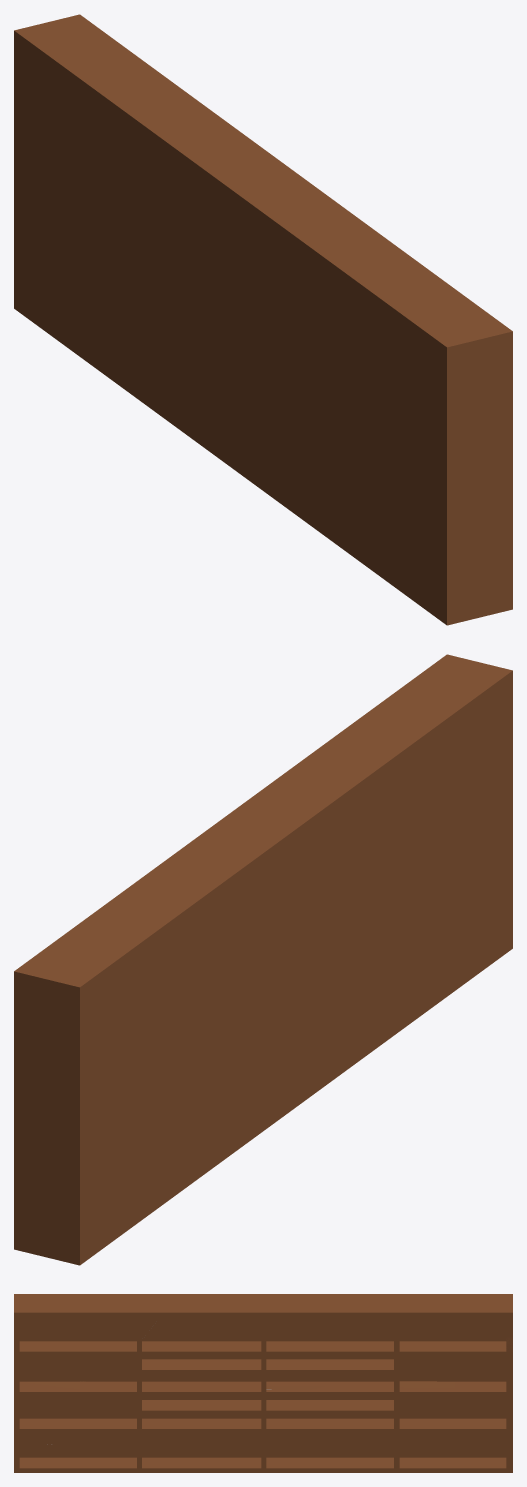
File: shattered_shelves.fbx
The picture shows the model from 3 angles, top to bottom: view 1: azimuth 30°, elevation 25°; view 2: azimuth 150°, elevation 25°; view 3: azimuth 270°, elevation 25°; orthographic projection. The views are drawn at different scales.
Parts seen in each view (by area): view 1: Cube, Cube_cell.073, Cube_cell.087, Cube_cell.097, Cube_cell.034, Cube_cell.052, Cube_cell.020, Cube_cell.070, Cube_cell.067, Cube_cell.003, Cube_cell.025, Cube_cell.081 (+14 smaller); view 2: Cube, Cube_cell.034, Cube_cell.091, Cube_cell.067, Cube_cell.070, Cube_cell.073, Cube_cell.087, Cube_cell.035, Cube_cell.041, Cube_cell.052, Cube_cell.088, Cube_cell.092 (+28 smaller); view 3: Cube, Cube_cell.060, Cube_cell.048, Cube_cell.087, Cube_cell.074, Cube_cell.011, Cube_cell.078, Cube_cell.001, Cube_cell.053, Cube_cell.066, Cube_cell.013, Cube_cell.028 (+49 smaller).
Boxes of the visible parts, x1,y1,x2,y2 form: Cube: (14, 14, 512, 625); Cube_cell.073: (280, 400, 391, 540); Cube_cell.087: (383, 294, 493, 399); Cube_cell.097: (391, 469, 481, 625); Cube_cell.034: (172, 146, 311, 263); Cube_cell.052: (283, 289, 392, 406); Cube_cell.020: (399, 395, 466, 501); Cube_cell.070: (171, 363, 285, 506); Cube_cell.067: (175, 291, 286, 386); Cube_cell.003: (285, 332, 393, 468); Cube_cell.025: (285, 489, 399, 589); Cube_cell.081: (392, 364, 492, 463); Cube: (14, 654, 512, 1265); Cube_cell.034: (213, 783, 356, 901); Cube_cell.091: (241, 946, 352, 1081); Cube_cell.067: (240, 887, 352, 1025); Cube_cell.070: (237, 1024, 351, 1149); Cube_cell.073: (346, 921, 441, 1045); Cube_cell.087: (392, 660, 511, 754); Cube_cell.035: (239, 875, 333, 997); Cube_cell.041: (131, 989, 240, 1086); Cube_cell.052: (349, 764, 458, 891); Cube_cell.088: (53, 949, 128, 1023); Cube_cell.092: (117, 872, 238, 992); Cube: (14, 1294, 512, 1472); Cube_cell.060: (203, 1317, 331, 1352); Cube_cell.048: (376, 1320, 452, 1365); Cube_cell.087: (14, 1294, 86, 1332); Cube_cell.074: (137, 1319, 202, 1373); Cube_cell.011: (329, 1309, 449, 1360); Cube_cell.078: (329, 1434, 453, 1457); Cube_cell.001: (14, 1420, 75, 1472); Cube_cell.053: (85, 1373, 203, 1391); Cube_cell.066: (450, 1355, 506, 1382); Cube_cell.013: (76, 1317, 157, 1354); Cube_cell.028: (201, 1396, 322, 1422).
Size of the model in its own units: 707 by 251 by 62.16.
